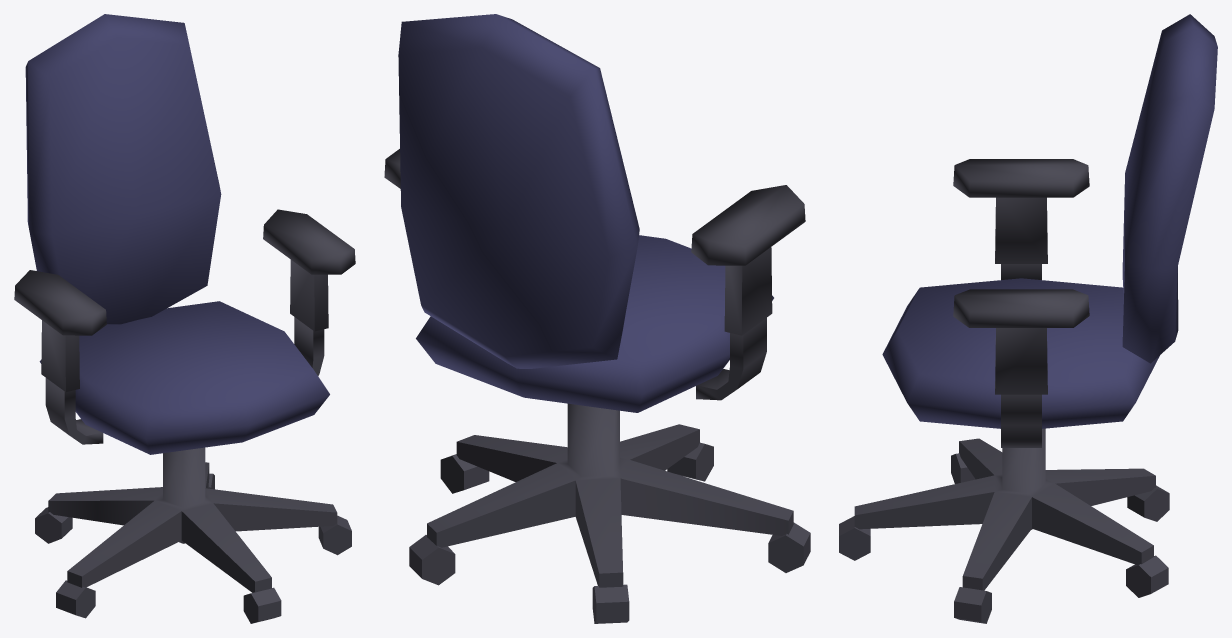
Rendered from Office_Chair.glb.
The picture shows the model from 3 angles, left to right: view 1: azimuth 30°, elevation 25°; view 2: azimuth 150°, elevation 25°; view 3: azimuth 270°, elevation 25°; orthographic projection. The views are drawn at different scales.
Parts seen in each view (by area): view 1: Chair; view 2: Chair; view 3: Chair.
Part boxes in pixels (left/top/right/bottom): Chair: left=14, top=14, right=355, bottom=623; Chair: left=384, top=14, right=810, bottom=623; Chair: left=839, top=14, right=1217, bottom=623.
Bounding box in the file's own units: 0.9699 × 1.54 × 1.
